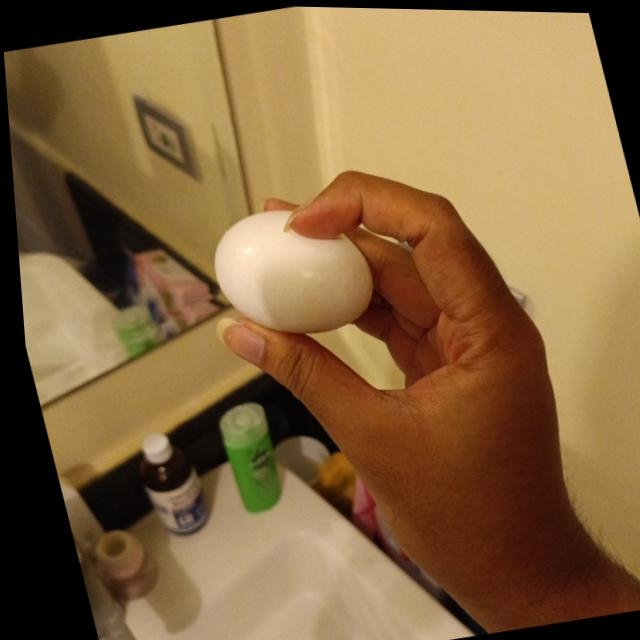egg: (197, 195, 379, 344)
